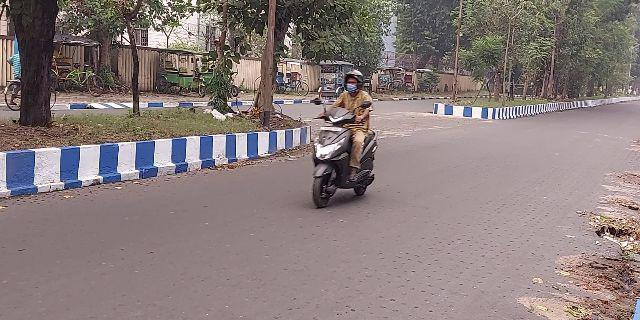Motorbike: (309, 62, 386, 211)
